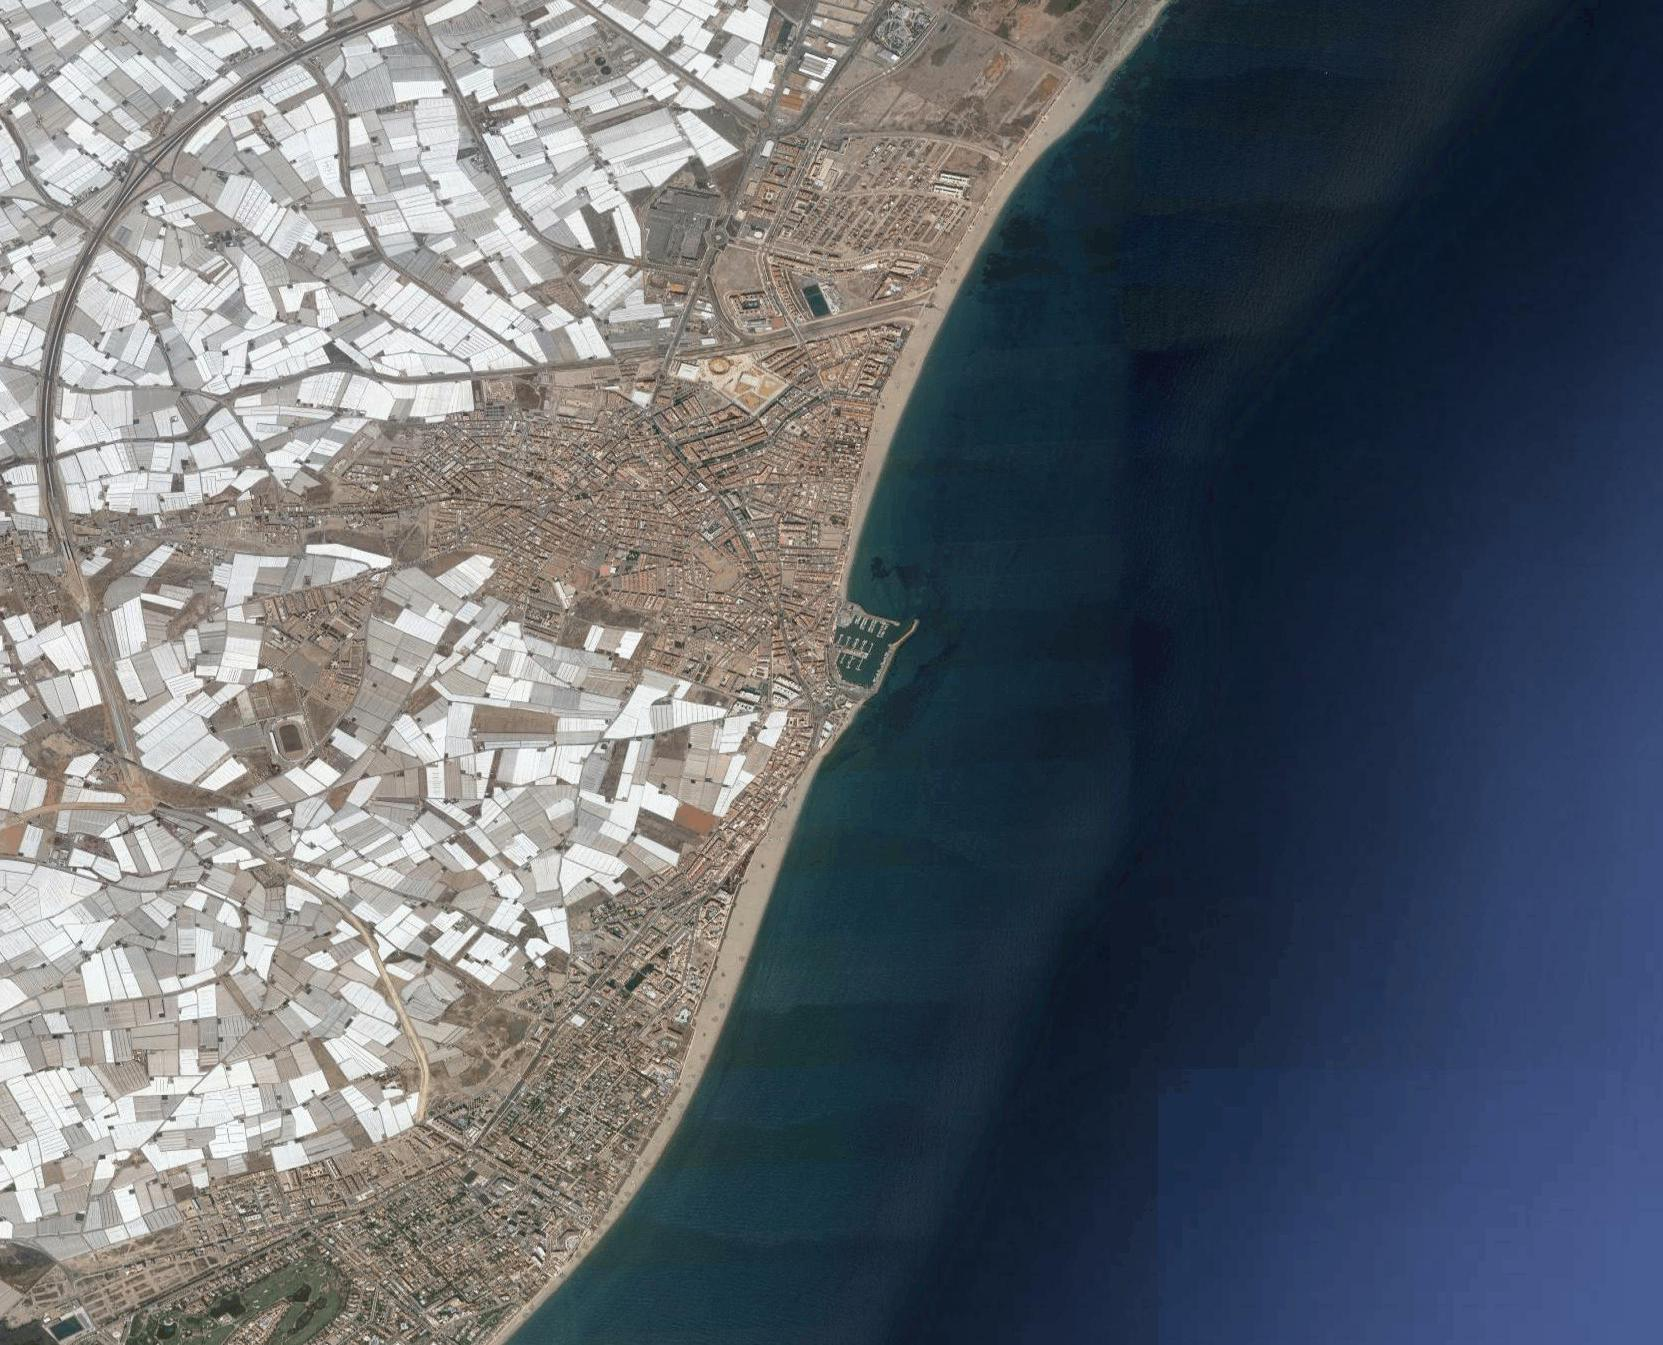harbor: (821, 576, 943, 723)
motorway: (86, 126, 187, 246), (174, 51, 285, 141), (34, 242, 106, 371), (23, 375, 86, 502), (32, 502, 96, 624), (288, 1, 420, 55), (91, 627, 136, 764)
